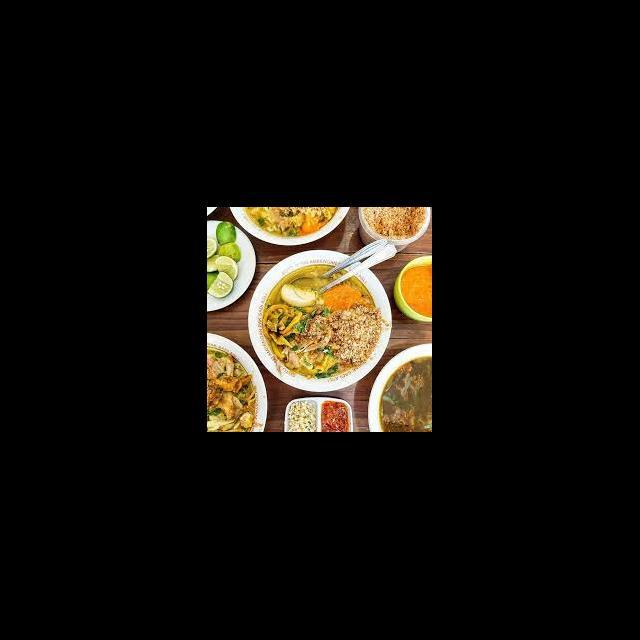Soto: (265, 267, 387, 381)
